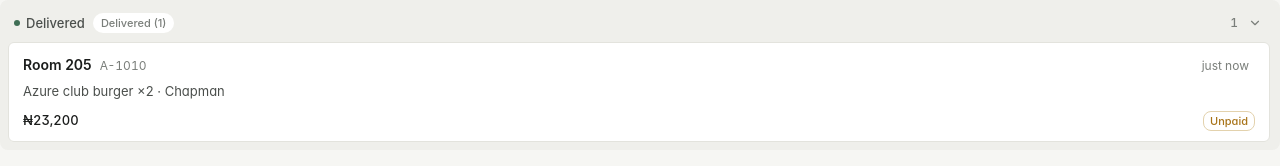
Scenario: OrderBoardColumn component › supports collapsible styling on DELIVERED and CANCELLED columns
Expected: the element named "Room 205, order A-1010" is shown, [8,42,1270,142]
Click the button named "Collapse Delivered column" at (1255, 23), box [1244,12,1266,34]
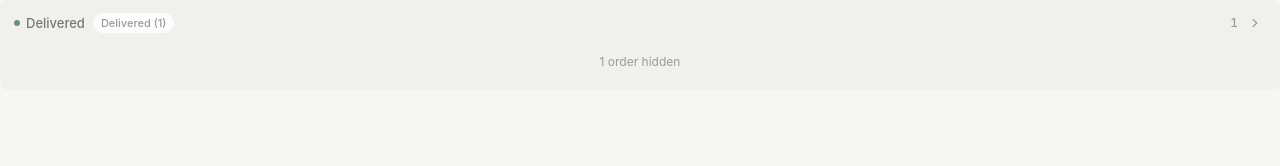
Now the text "1 order hidden" is shown, box [600,54,680,69]
Click the button named "Expand Delivered column" at (1255, 23), box [1244,12,1266,34]
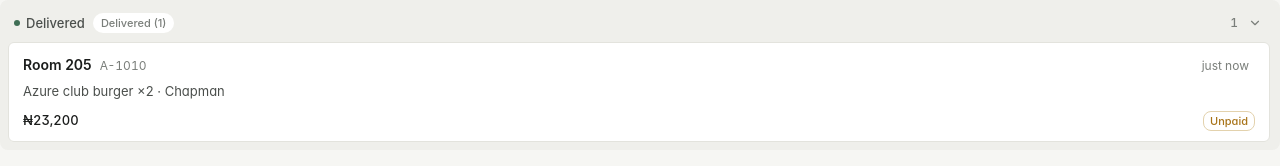
Now the element named "Room 205, order A-1010" is shown, box [8,42,1270,142]
